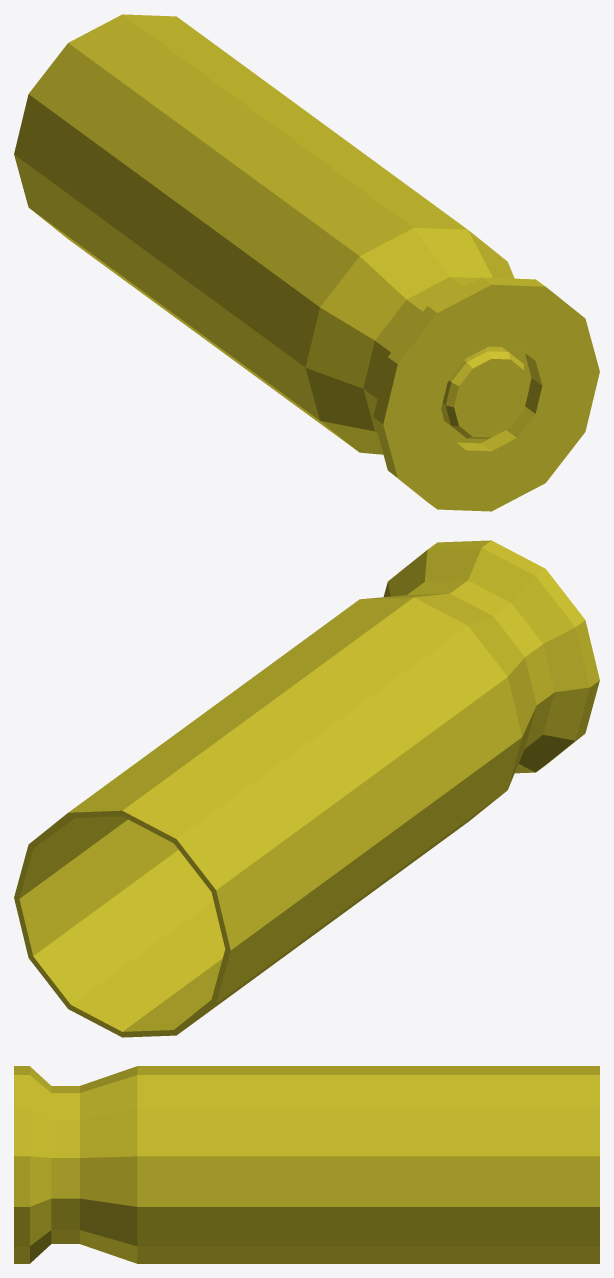
File: BulletCasing.fbx
3 renders of one model, top to bottom at view 1: azimuth 30°, elevation 25°; view 2: azimuth 150°, elevation 25°; view 3: azimuth 270°, elevation 25°, orthographic. The views are drawn at different scales.
Parts seen in each view (by area): view 1: Cylinder; view 2: Cylinder; view 3: Cylinder.
Boxes of the visible parts, x1,y1,x2,y2 form: Cylinder: [14, 14, 599, 511]; Cylinder: [14, 540, 599, 1037]; Cylinder: [14, 1066, 599, 1263].
Bounding box in the file's own units: 6.58 × 6.58 × 19.42.
